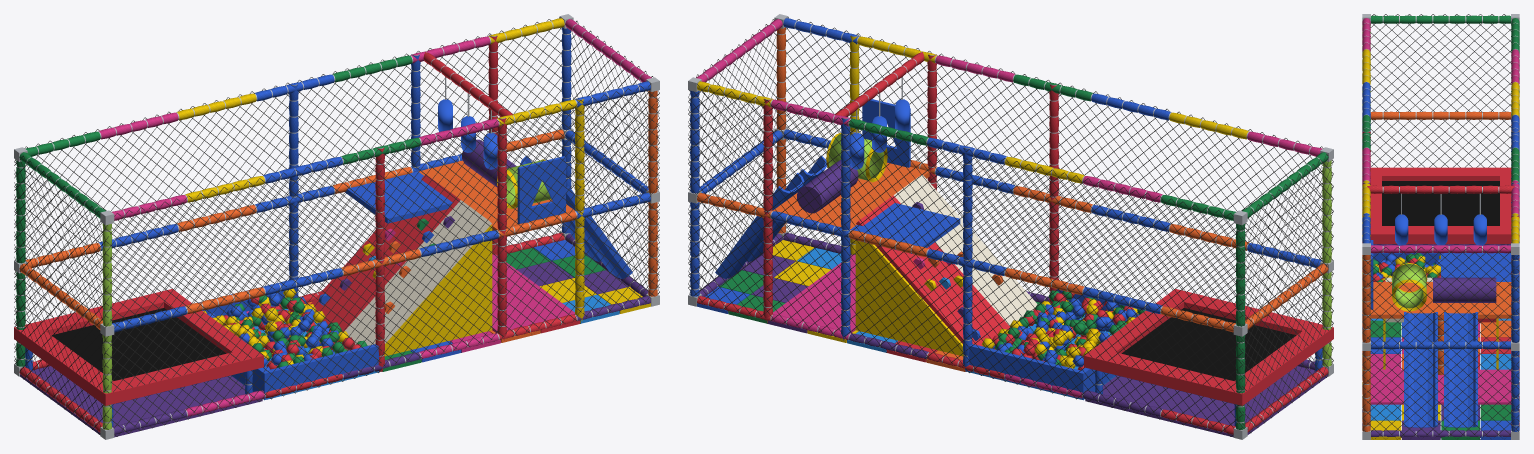
The model's file is web.glb.
3 renders of one model, left to right at view 1: azimuth 30°, elevation 25°; view 2: azimuth 150°, elevation 25°; view 3: azimuth 270°, elevation 25°, orthographic. The views are drawn at different scales.
Visible parts, largest first — view 1: rede, vinil_tubo, plataforma, tatame, bolinhas, cama, metal, escorregador_plastico; view 2: rede, vinil_tubo, plataforma, tatame, bolinhas, cama, metal, escorregador_plastico; view 3: plataforma, vinil_tubo, rede, escorregador_plastico, tatame, cama, metal, bolinhas.
Boxes of the visible parts, box(x1,y1,x2,y2) form: rede: box(14, 17, 659, 436); vinil_tubo: box(16, 18, 657, 434); plataforma: box(14, 99, 574, 405); tatame: box(20, 240, 650, 437); bolinhas: box(203, 288, 367, 370); cama: box(51, 308, 226, 380); metal: box(14, 14, 659, 439); escorregador_plastico: box(319, 156, 632, 313); rede: box(688, 17, 1333, 436); vinil_tubo: box(690, 18, 1331, 434); plataforma: box(773, 99, 1333, 405); tatame: box(697, 240, 1327, 437); bolinhas: box(981, 290, 1145, 370); cama: box(1121, 308, 1296, 380); metal: box(688, 14, 1333, 439); escorregador_plastico: box(715, 156, 1003, 340); plataforma: box(1370, 167, 1511, 404); vinil_tubo: box(1362, 15, 1519, 437); rede: box(1362, 14, 1519, 439); escorregador_plastico: box(1404, 312, 1477, 427); tatame: box(1370, 244, 1511, 439); cama: box(1382, 181, 1499, 225); metal: box(1362, 14, 1519, 439); bolinhas: box(1373, 253, 1440, 281).
Bounding box in the file's own units: 7 × 2.7 × 2.
Materials: 8 (8 with a texture image).
